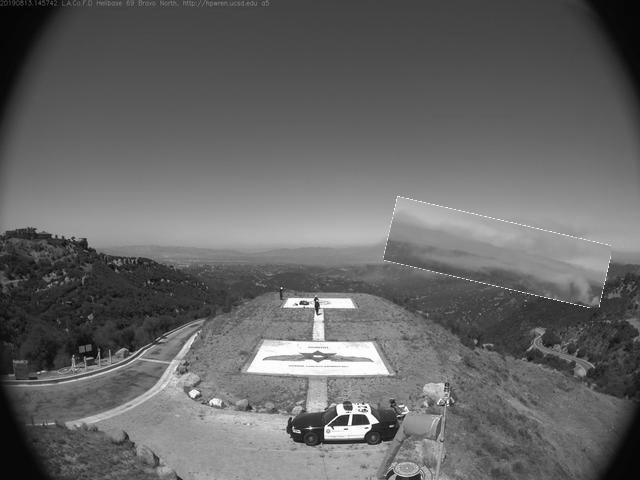smoke: (386, 209, 611, 298)
